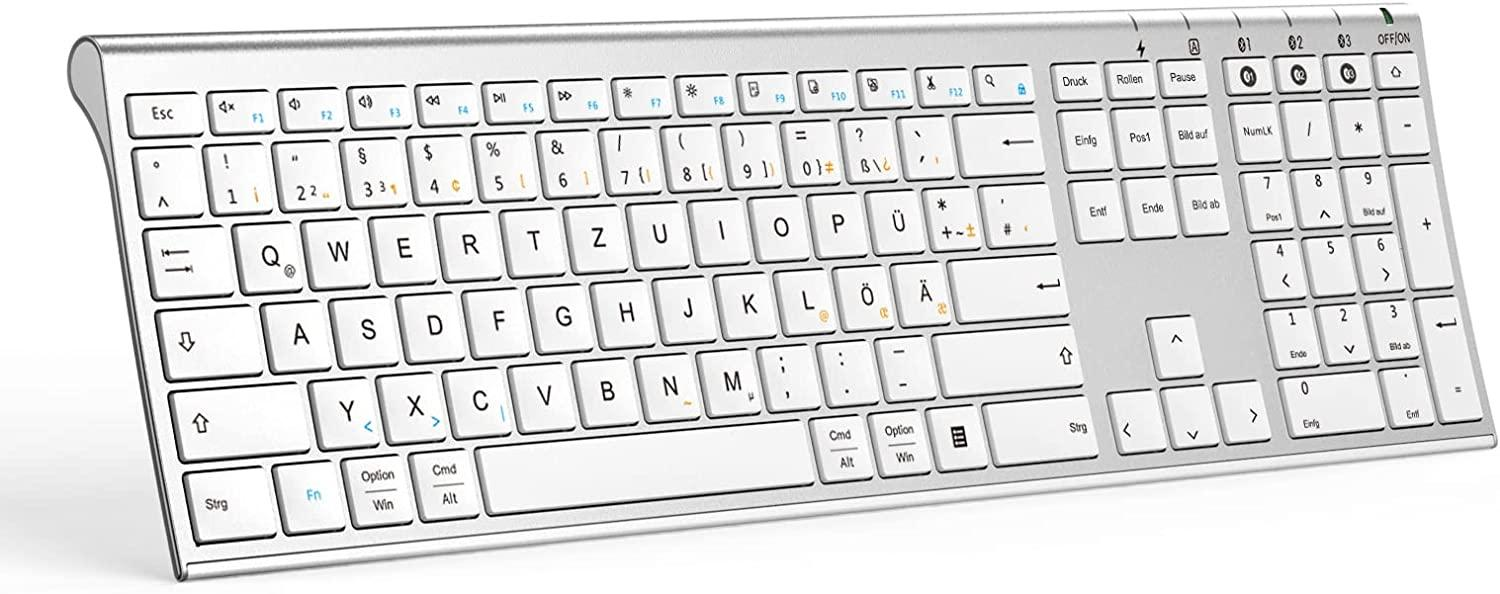0: (779, 115, 839, 184)
1: (202, 139, 272, 214)
2: (270, 136, 339, 209)
3: (337, 132, 406, 206)
4: (406, 130, 471, 203)
5: (470, 127, 534, 199)
6: (535, 125, 597, 197)
7: (597, 122, 660, 194)
8: (659, 120, 719, 191)
9: (719, 118, 778, 187)
a: (262, 295, 331, 371)
accent: (896, 111, 952, 177)
ae: (892, 255, 951, 326)
alt-left: (408, 443, 479, 520)
altgr-right: (808, 410, 871, 481)
b: (571, 352, 638, 424)
c: (443, 361, 512, 436)
caret: (131, 142, 202, 217)
comma: (755, 339, 818, 410)
d: (398, 287, 465, 361)
del: (954, 108, 1044, 175)
e: (370, 209, 436, 282)
enter: (950, 250, 1070, 320)
f: (463, 282, 528, 356)
g: (527, 278, 593, 351)
h: (591, 275, 655, 346)
hash: (979, 179, 1056, 245)
i: (689, 193, 748, 262)
j: (654, 270, 715, 342)
k: (714, 266, 776, 337)
keyboard: (67, 1, 1499, 582)
l: (774, 262, 834, 334)
m: (697, 343, 760, 415)
minus: (874, 331, 933, 399)
n: (634, 348, 700, 420)
o: (748, 190, 808, 260)
oe: (834, 259, 894, 329)
p: (808, 188, 866, 256)
plus: (921, 181, 978, 249)
point: (815, 336, 875, 403)
q: (231, 216, 305, 292)
r: (436, 206, 501, 279)
s: (330, 291, 398, 366)
shift-left: (166, 377, 308, 458)
shift-lock: (153, 299, 261, 379)
shift-right: (932, 321, 1084, 393)
space: (475, 419, 806, 517)
ss: (838, 112, 896, 181)
strg-left: (180, 462, 276, 543)
strg-right: (981, 391, 1102, 463)
t: (501, 203, 564, 276)
tab: (140, 220, 231, 297)
u: (627, 196, 689, 268)
ue: (866, 185, 923, 254)
v: (508, 357, 575, 430)
w: (302, 212, 369, 287)
x: (376, 367, 445, 441)
y: (308, 372, 380, 446)
z: (564, 199, 627, 271)
